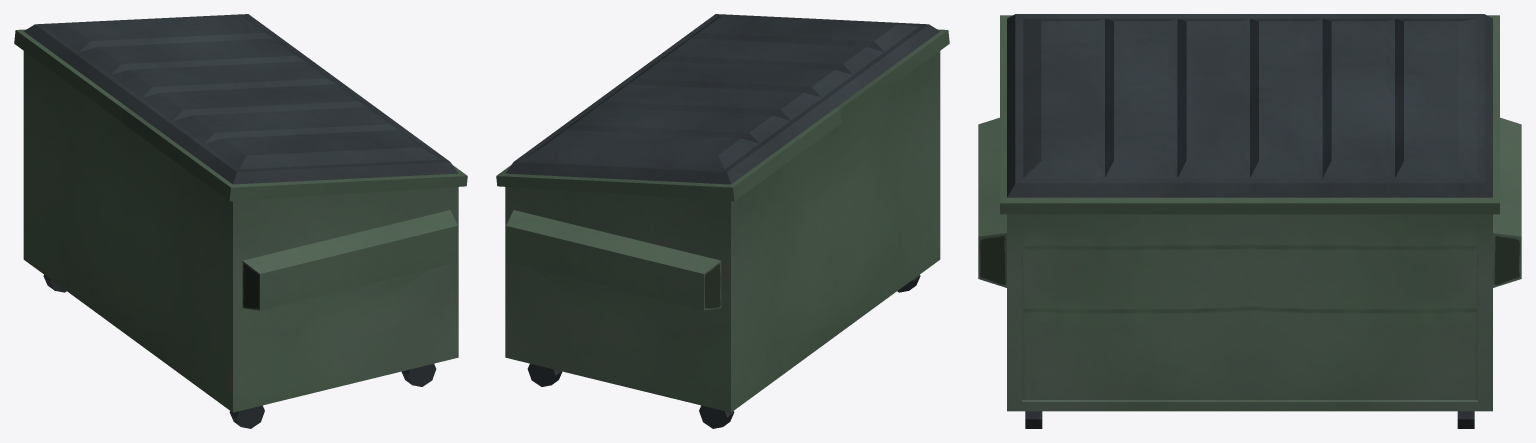
Rendered from container.fbx.
3 renders of one model, left to right at view 1: azimuth 30°, elevation 25°; view 2: azimuth 150°, elevation 25°; view 3: azimuth 270°, elevation 25°, orthographic. The views are drawn at different scales.
Parts seen in each view (by area): view 1: Cube; view 2: Cube; view 3: Cube.
Boxes of the visible parts, left/top/right/bottom form: Cube: left=14, top=14, right=467, bottom=428; Cube: left=496, top=14, right=949, bottom=428; Cube: left=978, top=14, right=1521, bottom=428.
Bounding box in the file's own units: 338 × 363 × 575.
1 material, 1 textured.
